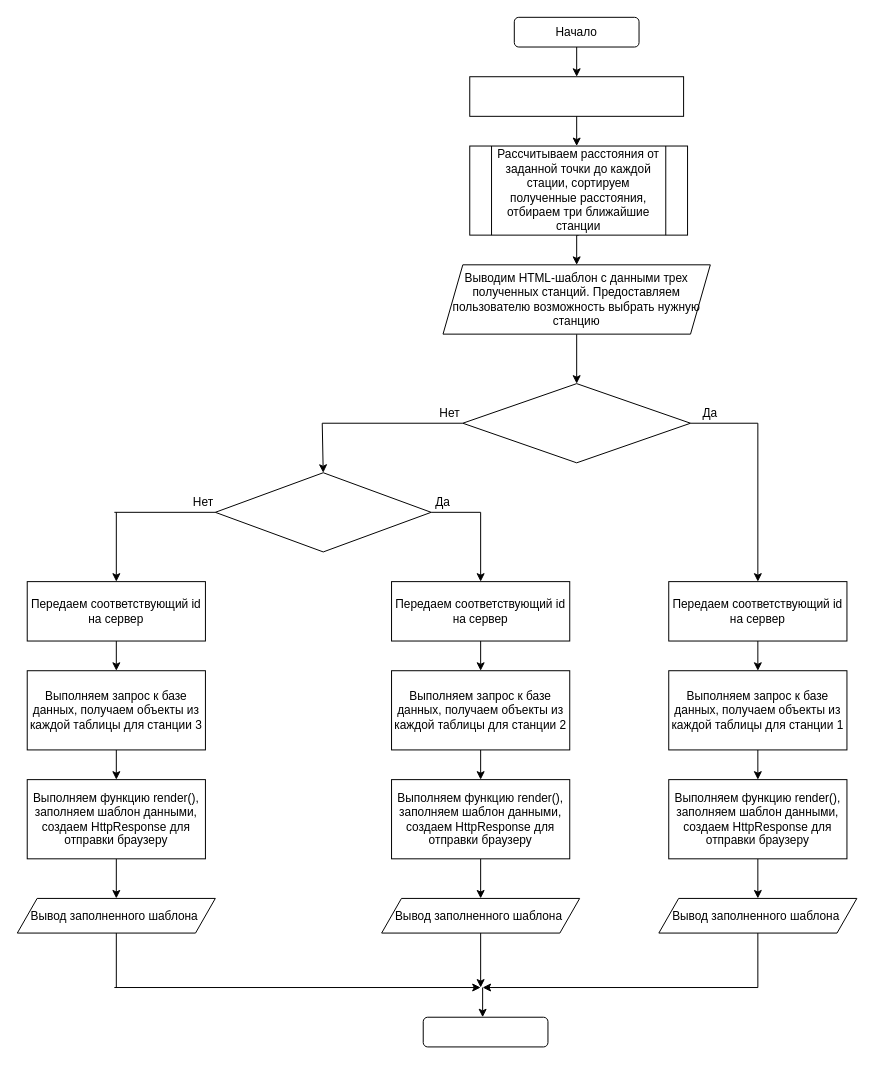
The diagram is 874 pixels wide and 1072 high, and some of its shapes have lost their labels. The box of each missing label's shape, as (x1, y1, x2, y2) in pixels:
Выход: (422, 1016, 548, 1047)
Пользователь выбрал станцию 1?: (462, 383, 691, 463)
Пользователь выбрал станцию 2?: (214, 472, 431, 552)
Считываем географические координаты станции из формы: (469, 76, 684, 116)
